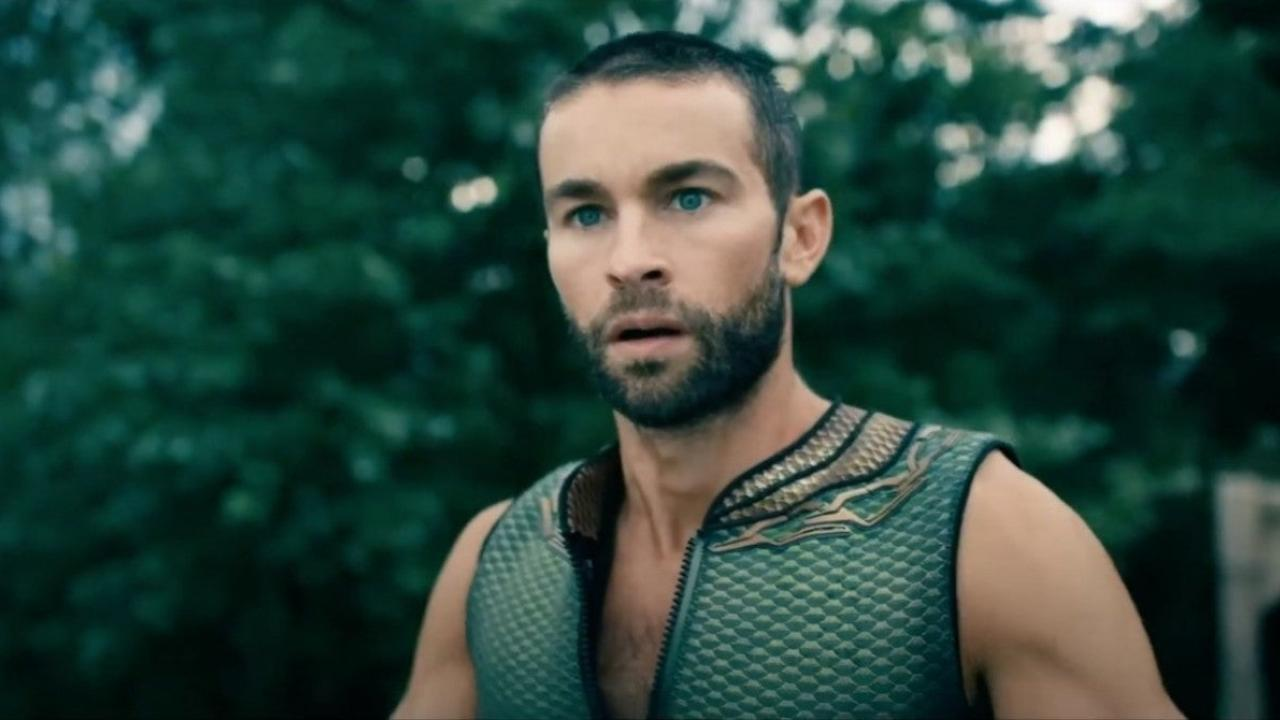BOY: (522, 34, 837, 416)
